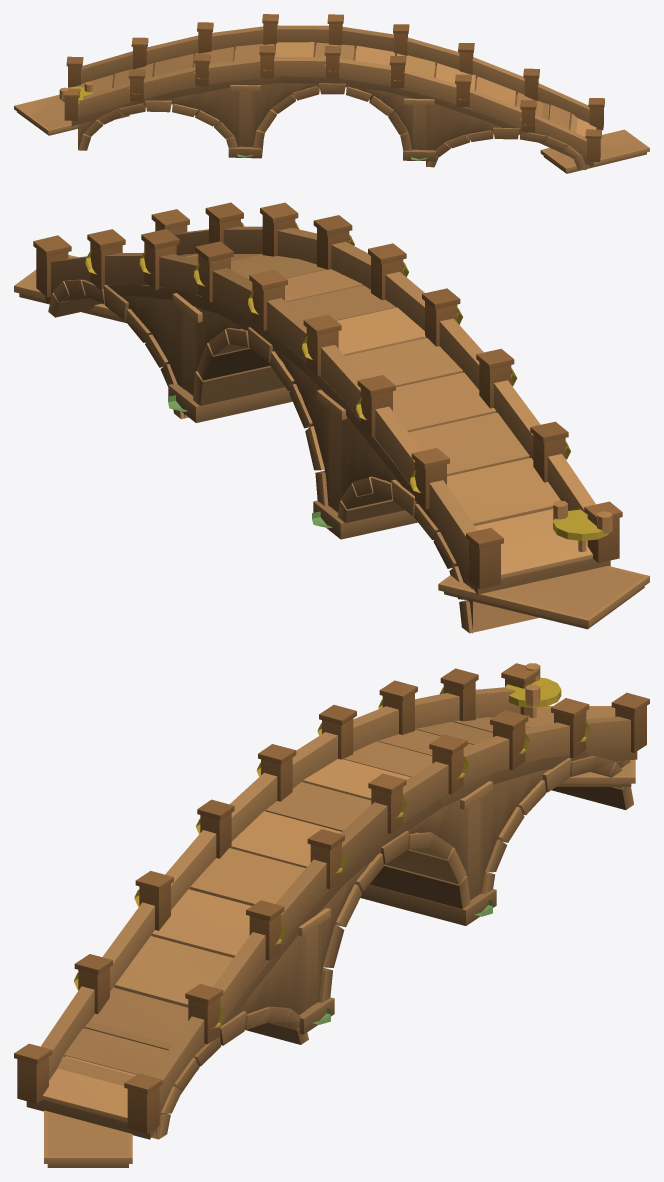
File: sugriva.glb
3 views of the same model, one above another, from view 1: azimuth 30°, elevation 25°; view 2: azimuth 150°, elevation 25°; view 3: azimuth 270°, elevation 25° (orthographic). The views are drawn at different scales.
Parts seen in each view (by area): view 1: bridge-sugriva; view 2: bridge-sugriva; view 3: bridge-sugriva.
Boxes of the visible parts, box(x1,y1,x2,y2) form: bridge-sugriva: box(14, 14, 649, 173); bridge-sugriva: box(14, 202, 649, 633); bridge-sugriva: box(14, 663, 649, 1167).
Size of the model in its own units: 2.44 by 0.5869 by 1.65.
